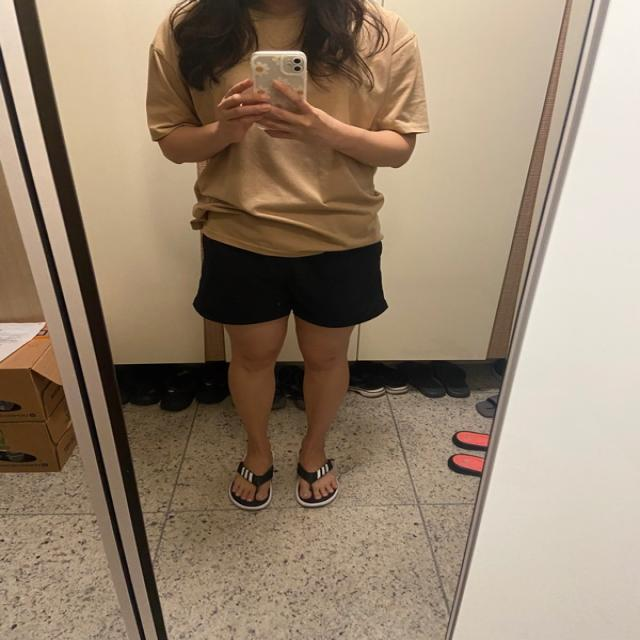shortpants: (189, 229, 387, 331)
shortsleeve: (141, 0, 432, 252)
